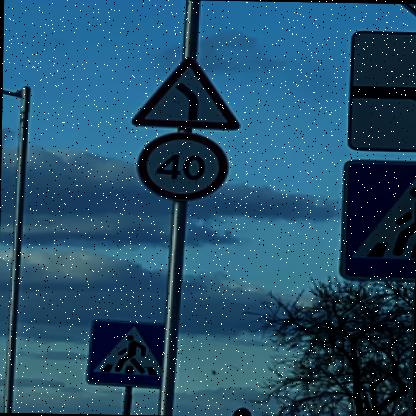crosswalk: (336, 158, 416, 282), (83, 317, 164, 384)
speedlimit: (134, 129, 228, 200)
